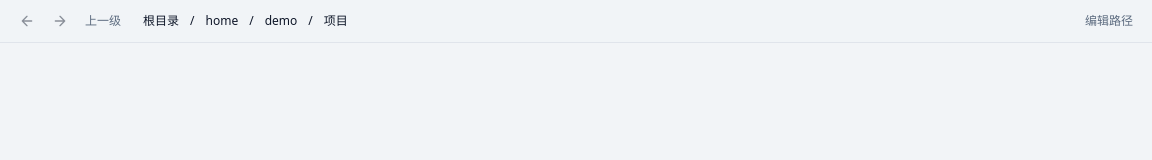
Test: 面包屑进入祖先后可前进后退，分支导航丢弃旧前进记录
Click the button "home".
click(222, 21)  # box left=198, top=6, right=245, bottom=36
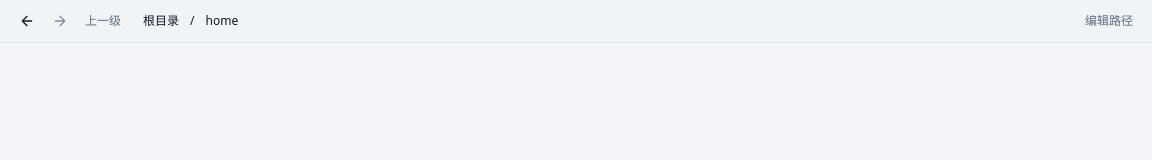
Click the button named "后退到上一目录".
click(27, 21)  # box left=12, top=6, right=42, bottom=36
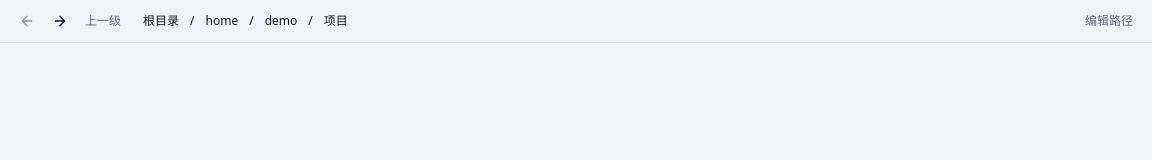
Click the button named "前进到下一目录".
click(60, 21)  # box left=45, top=6, right=75, bottom=36
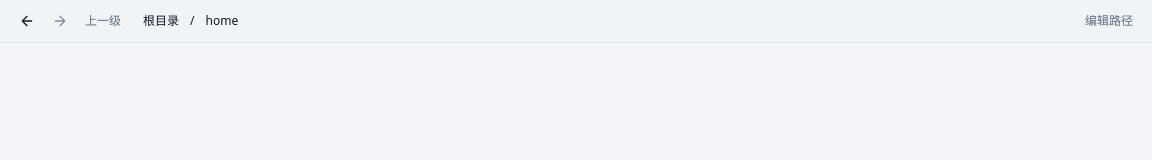
Click the button named "后退到上一目录".
click(27, 21)  # box left=12, top=6, right=42, bottom=36
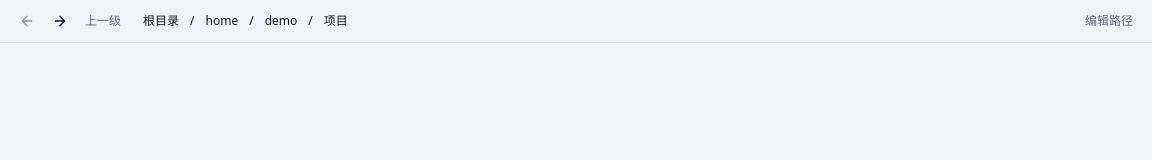
Click the button "根目录".
click(161, 21)  # box left=136, top=6, right=186, bottom=36
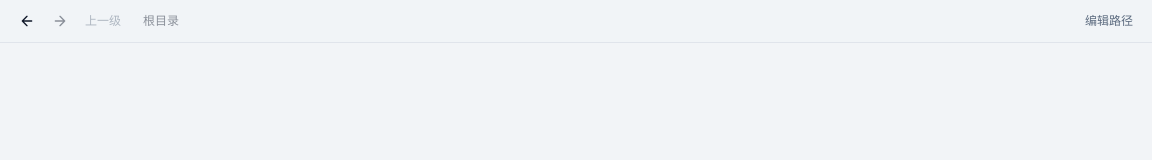
Expected: the button named "前进到下一目录" is disabled, left=45, top=6, right=75, bottom=36
Expected: the button "上一级" is disabled, left=78, top=6, right=128, bottom=36
